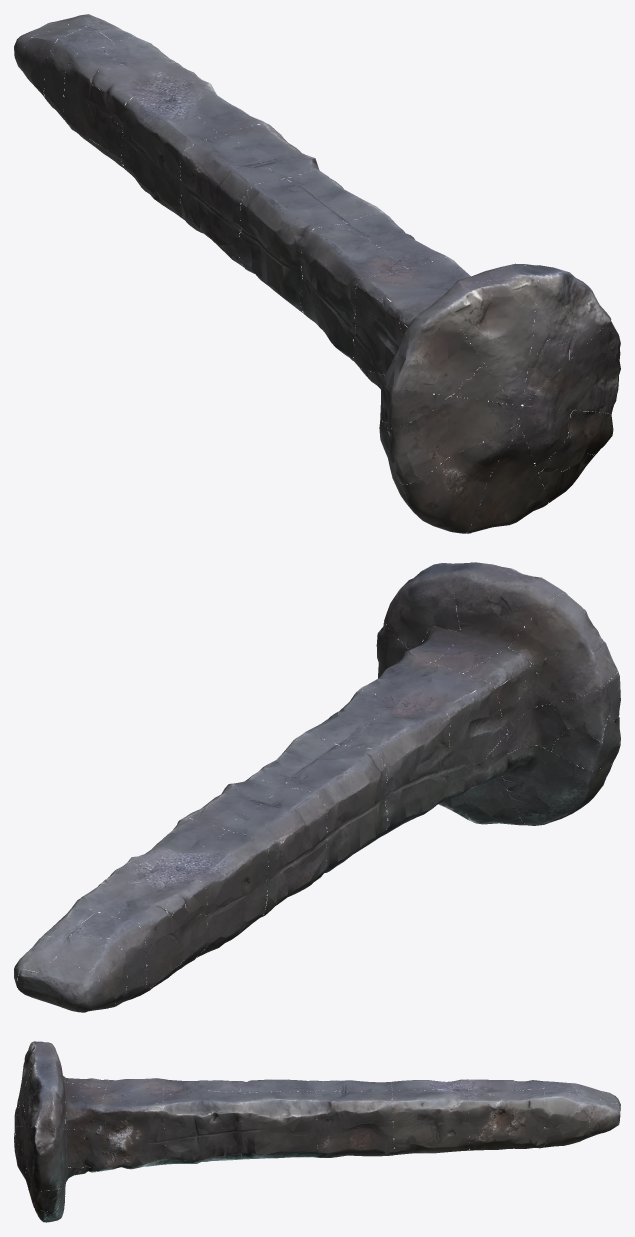
The model's file is harbor-nail-slim.glb.
3 renders of one model, top to bottom at view 1: azimuth 30°, elevation 25°; view 2: azimuth 150°, elevation 25°; view 3: azimuth 270°, elevation 25°, orthographic. The views are drawn at different scales.
Parts seen in each view (by area): view 1: tripo_node_092b516a-0dc5-4e4f-af6f-b5f44f008df8; view 2: tripo_node_092b516a-0dc5-4e4f-af6f-b5f44f008df8; view 3: tripo_node_092b516a-0dc5-4e4f-af6f-b5f44f008df8.
Part boxes in pixels (x1=…): tripo_node_092b516a-0dc5-4e4f-af6f-b5f44f008df8: x1=14, y1=14, x2=620, y2=533; tripo_node_092b516a-0dc5-4e4f-af6f-b5f44f008df8: x1=14, y1=562, x2=620, y2=1012; tripo_node_092b516a-0dc5-4e4f-af6f-b5f44f008df8: x1=14, y1=1041, x2=620, y2=1222.
Size of the model in its own units: 0.2856 by 0.2911 by 1.
1 material, 1 textured.
